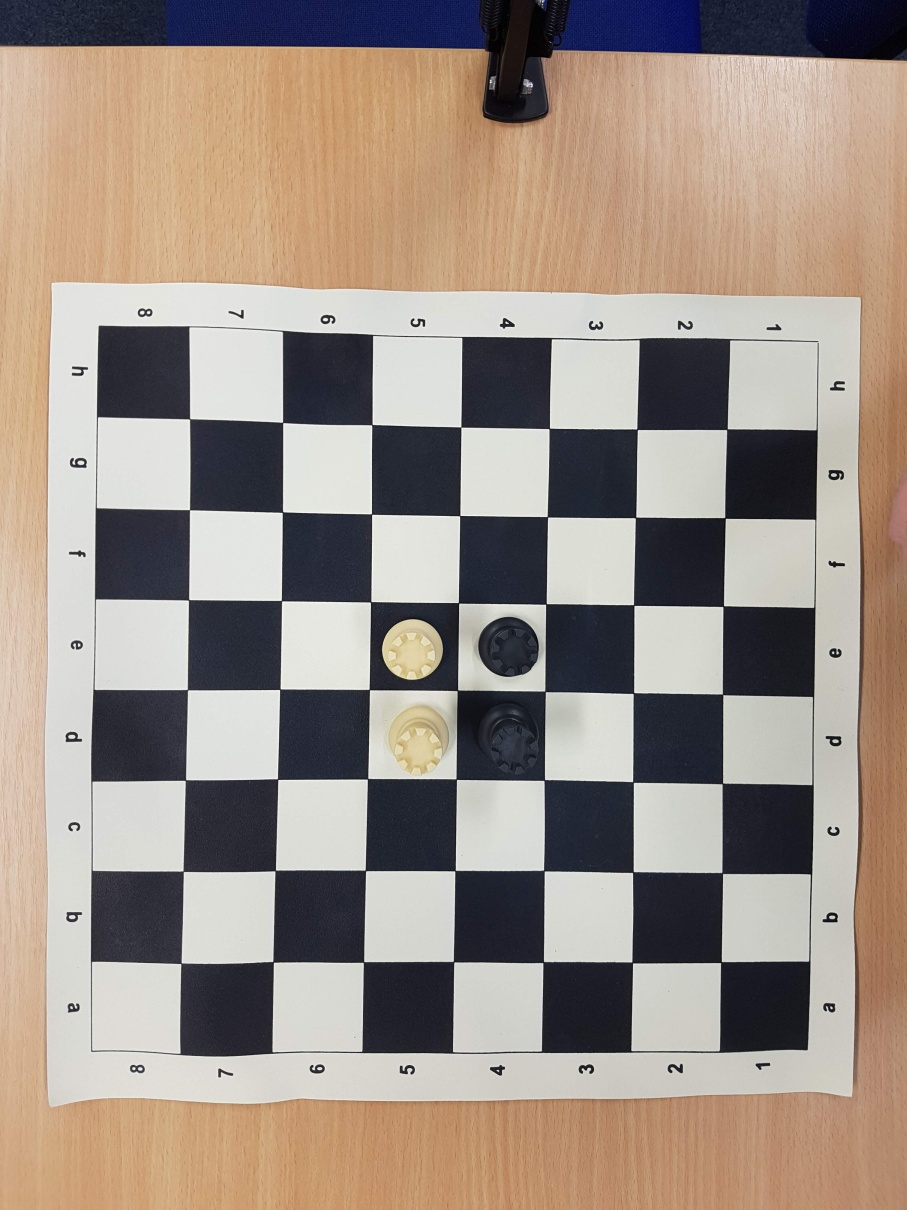chess_rook: (390, 707, 448, 775), (482, 708, 539, 775), (380, 620, 443, 679), (480, 618, 539, 676)
